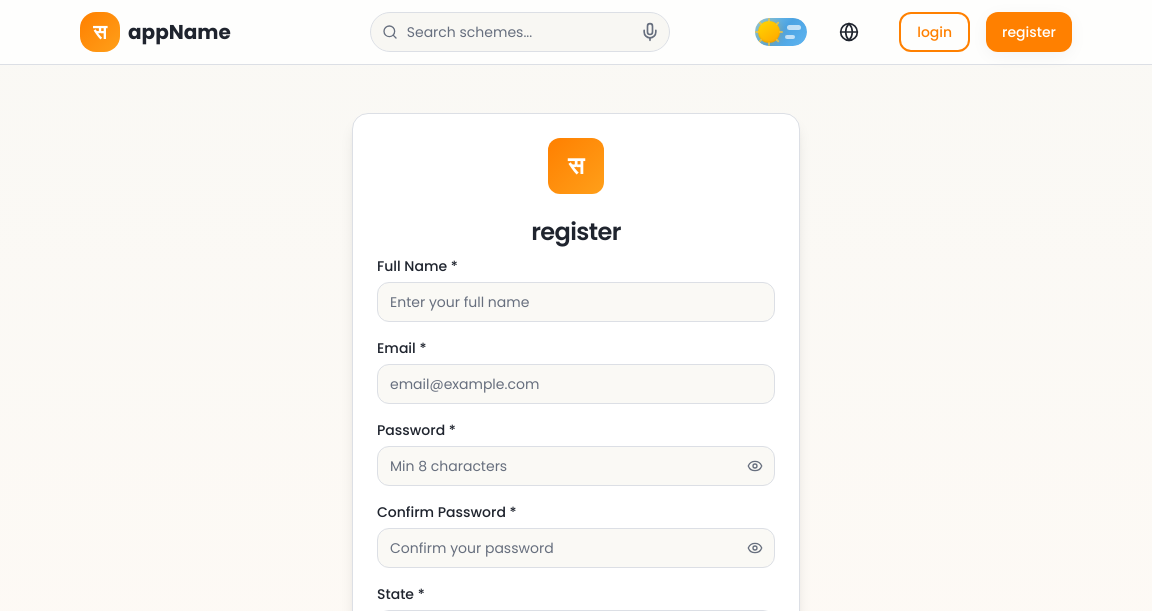
Scenario: Register Component › 6. Password strength indicator
Type "1234" into the password field with placeholder "Min 8 characters" at (576, 466), box x1=377 y1=446 x2=775 y2=486
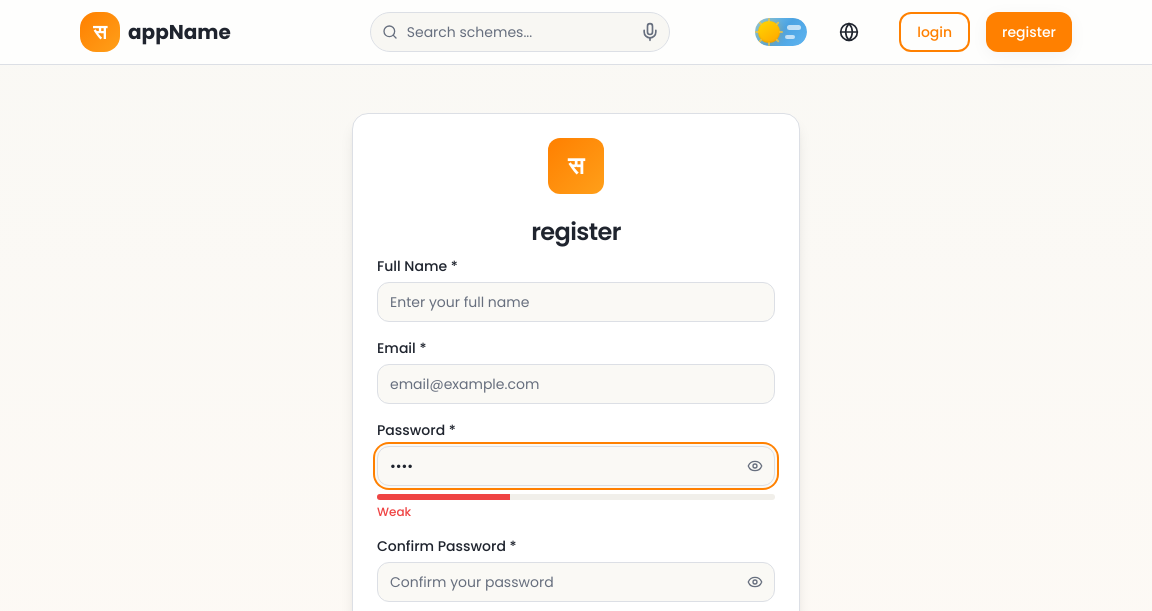
Expected: the text "Weak" is shown, x1=377 y1=503 x2=411 y2=520
Type "Pass1234" into the password field with placeholder "Min 8 characters" at (576, 466), box x1=377 y1=446 x2=775 y2=486
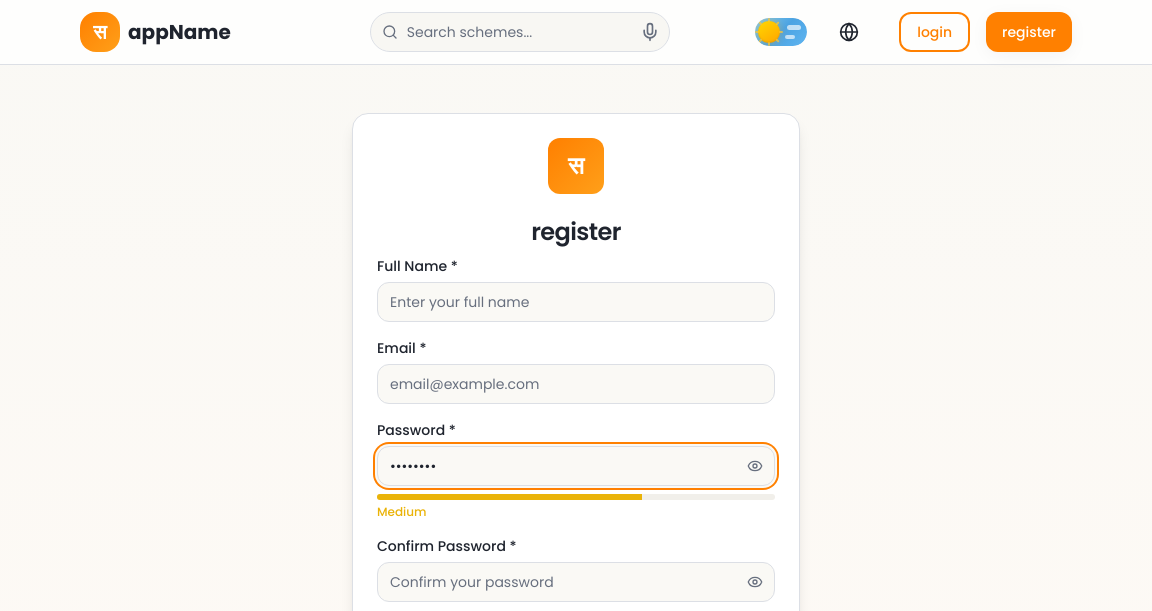
Expected: the text "Medium" is shown, x1=377 y1=503 x2=427 y2=520
Type "Pass@1234!" into the password field with placeholder "Min 8 characters" at (576, 466), box x1=377 y1=446 x2=775 y2=486
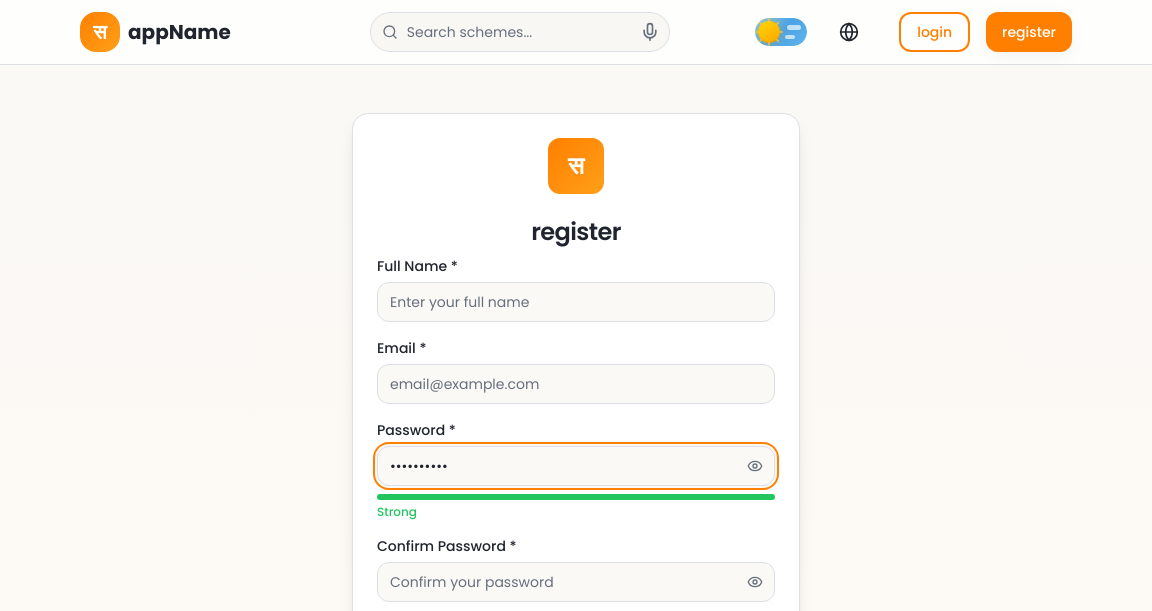
Expected: the text "Strong" is shown, x1=377 y1=503 x2=417 y2=520
